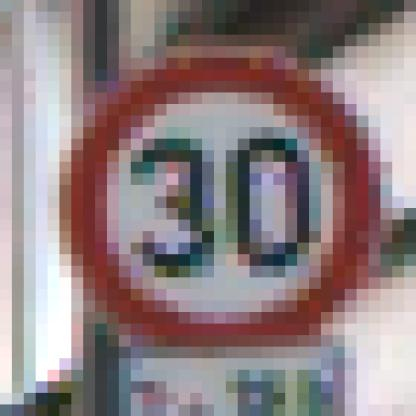Speed Limit 30: (69, 58, 367, 343)
